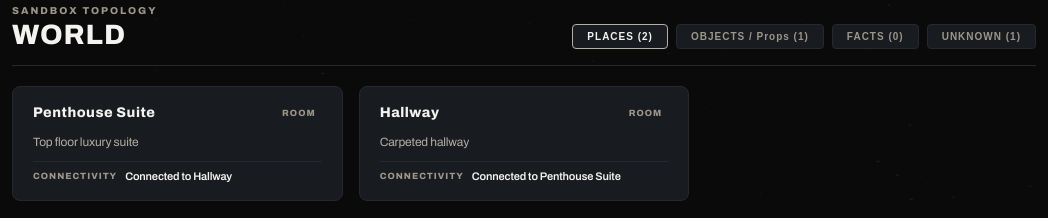
Frontend Workstation Components › renders WorldInspector and switches between rooms and props
Expected: the text "Penthouse Suite" is shown, [33,105,156,120]
Click the button "OBJECTS / Props (1)" at (750, 36), box [676,24,824,49]
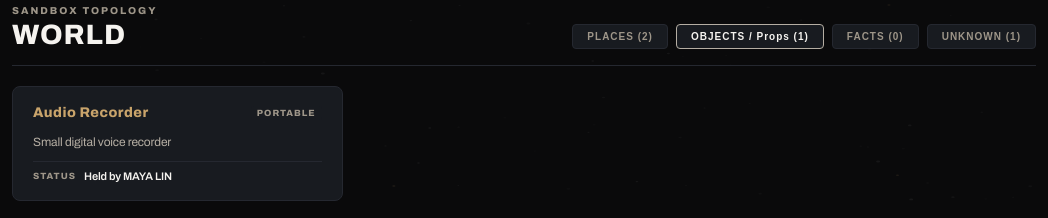
Expected: the text "Audio Recorder" is shown, [33,105,149,120]
